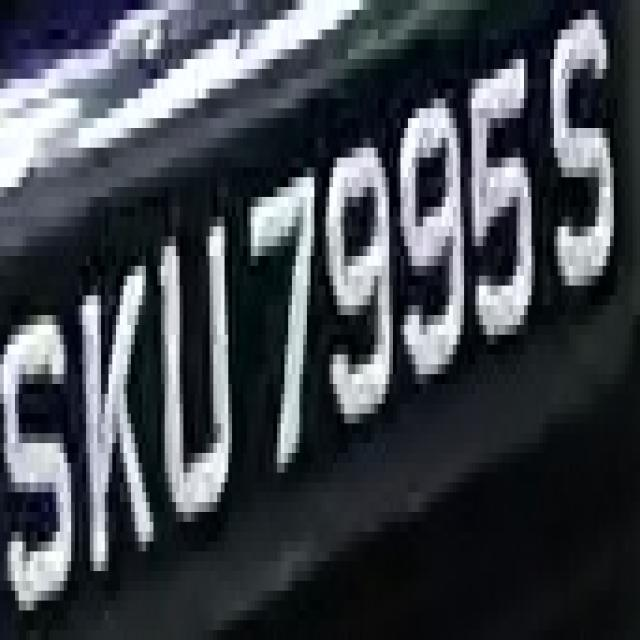5: (453, 39, 539, 354)
7: (239, 168, 322, 482)
9: (378, 79, 487, 472), (318, 108, 397, 443)
K: (79, 226, 146, 591)
S: (4, 266, 75, 620), (542, 10, 614, 325)
U: (157, 197, 247, 522)
